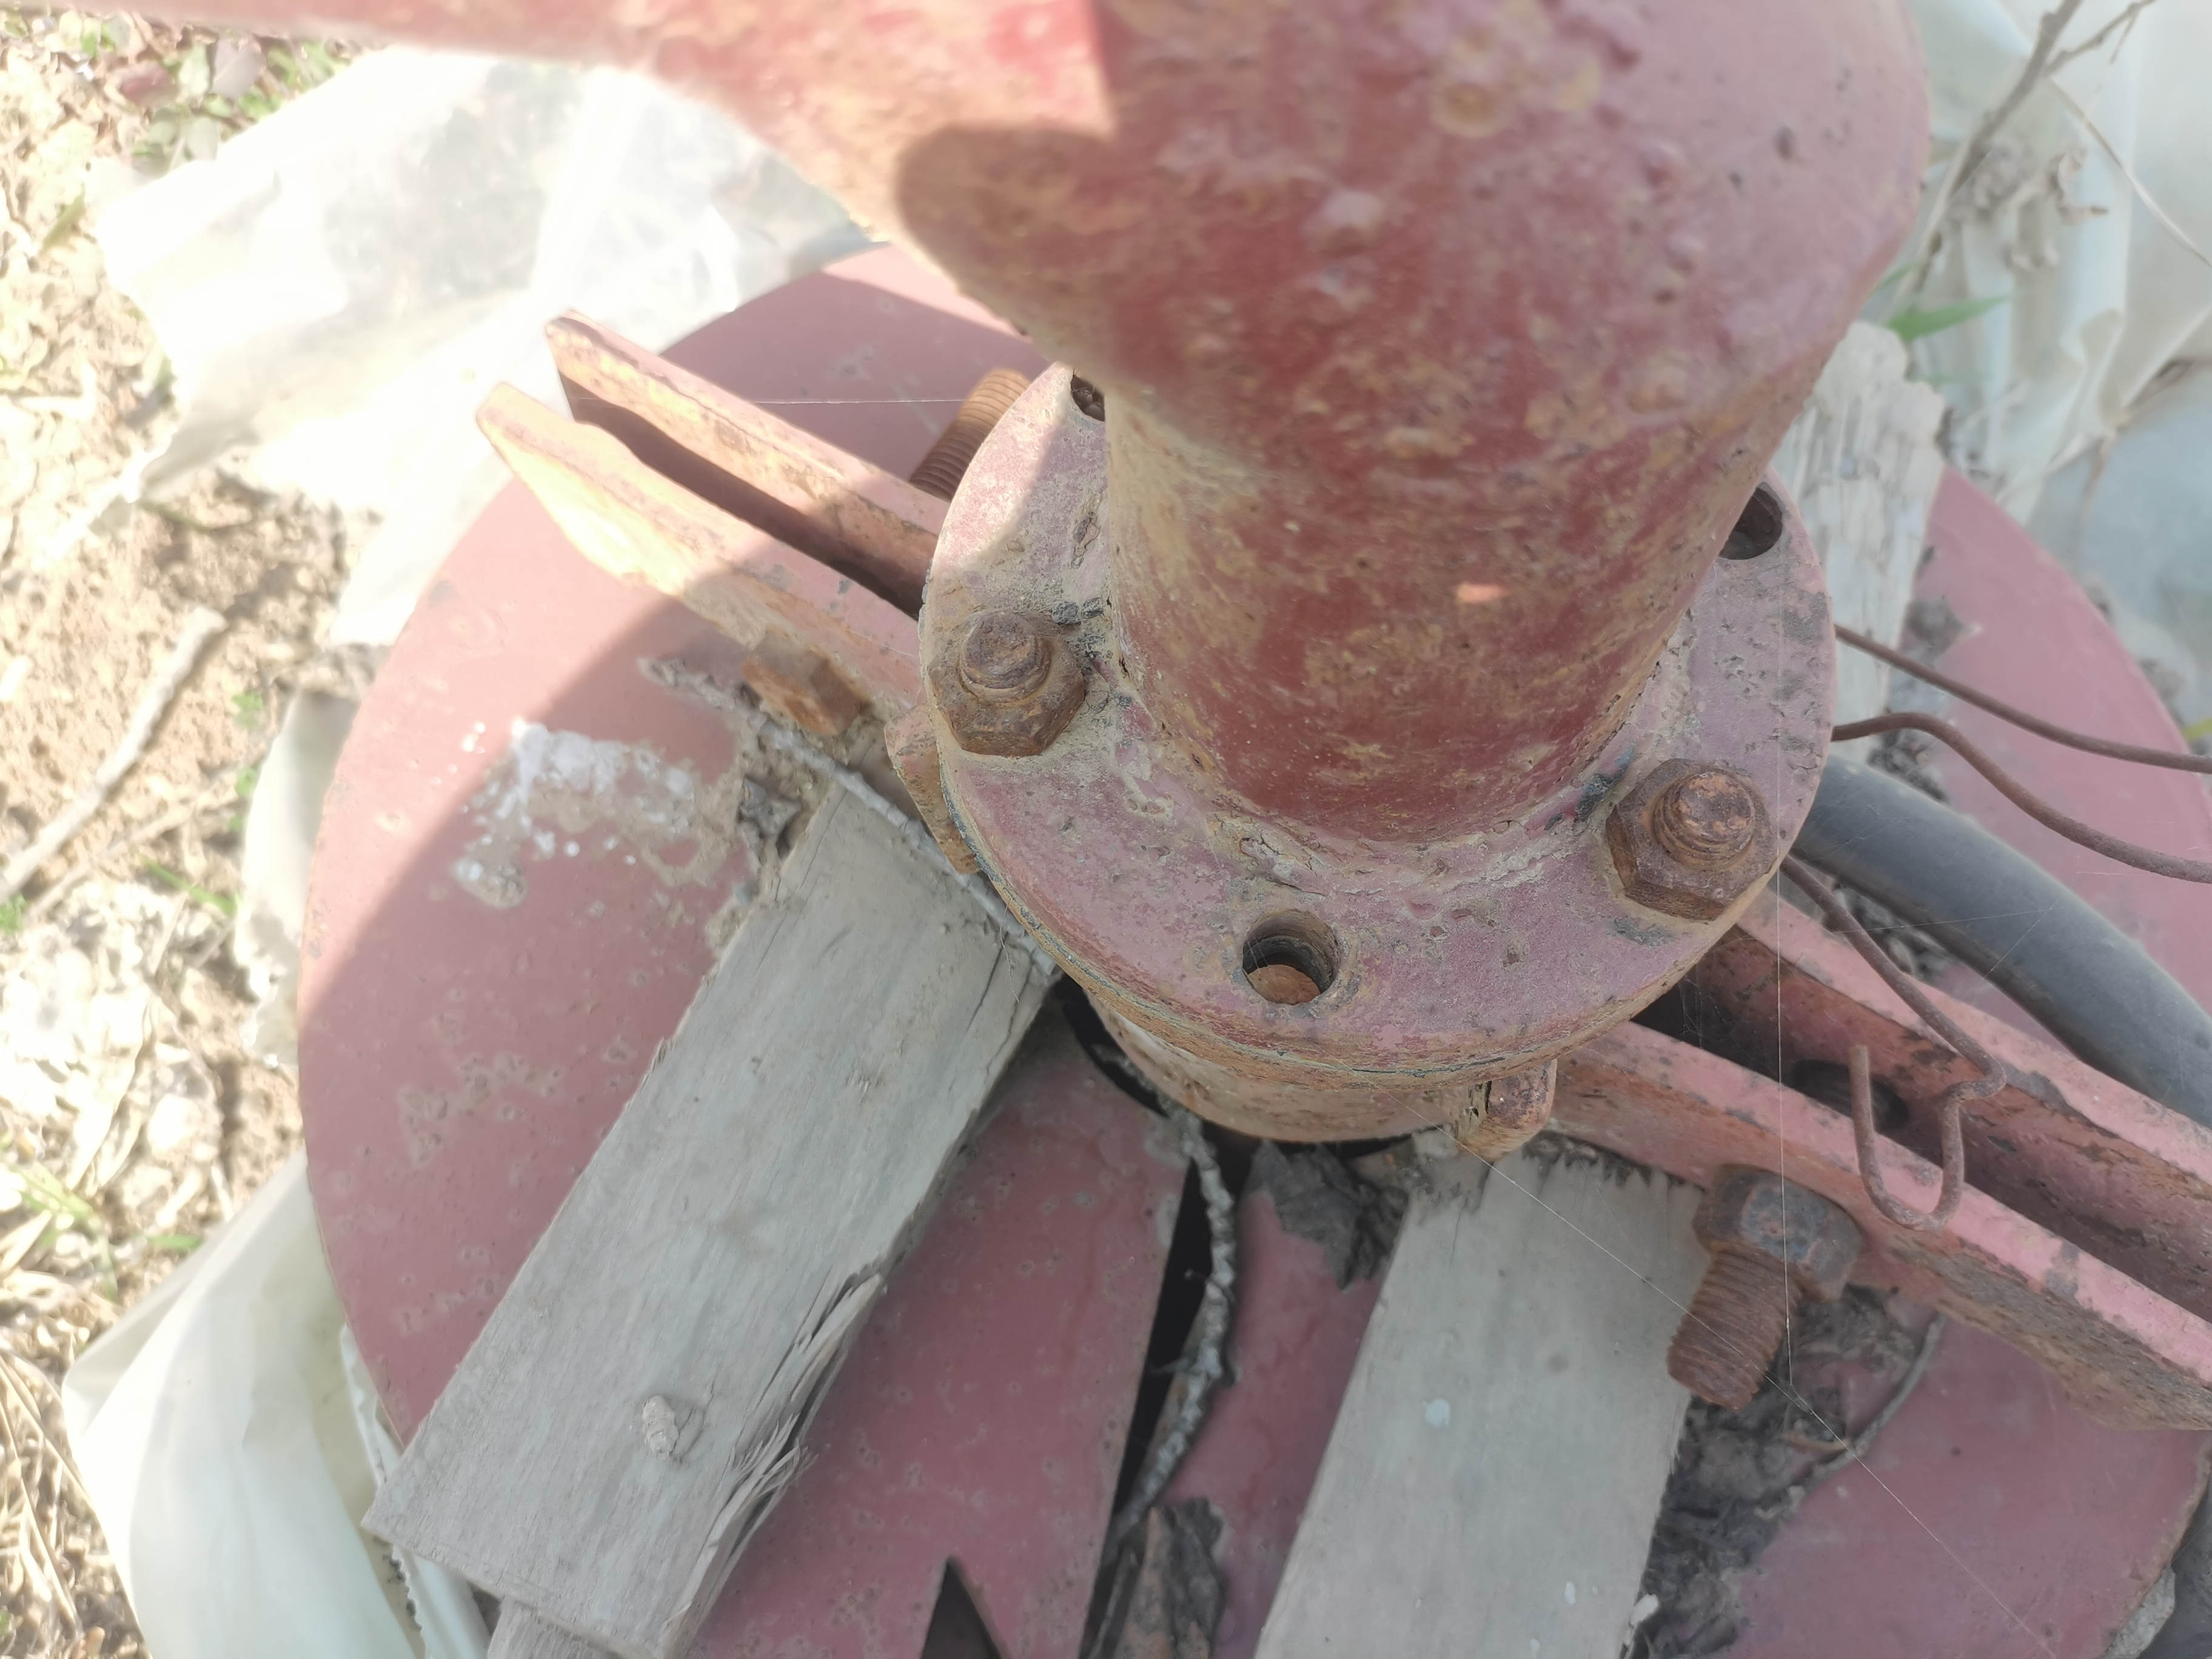bolt_b: (1601, 749, 1785, 927), (921, 596, 1089, 760)
bolt_c: (1691, 1157, 1867, 1307)
